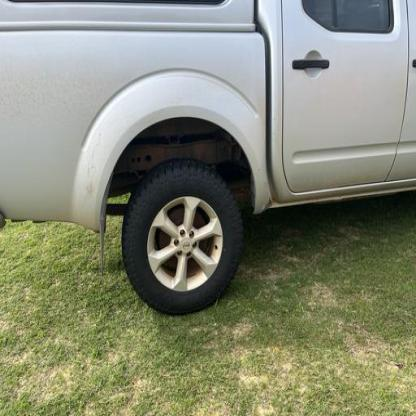Tire: (121, 158, 244, 315)
